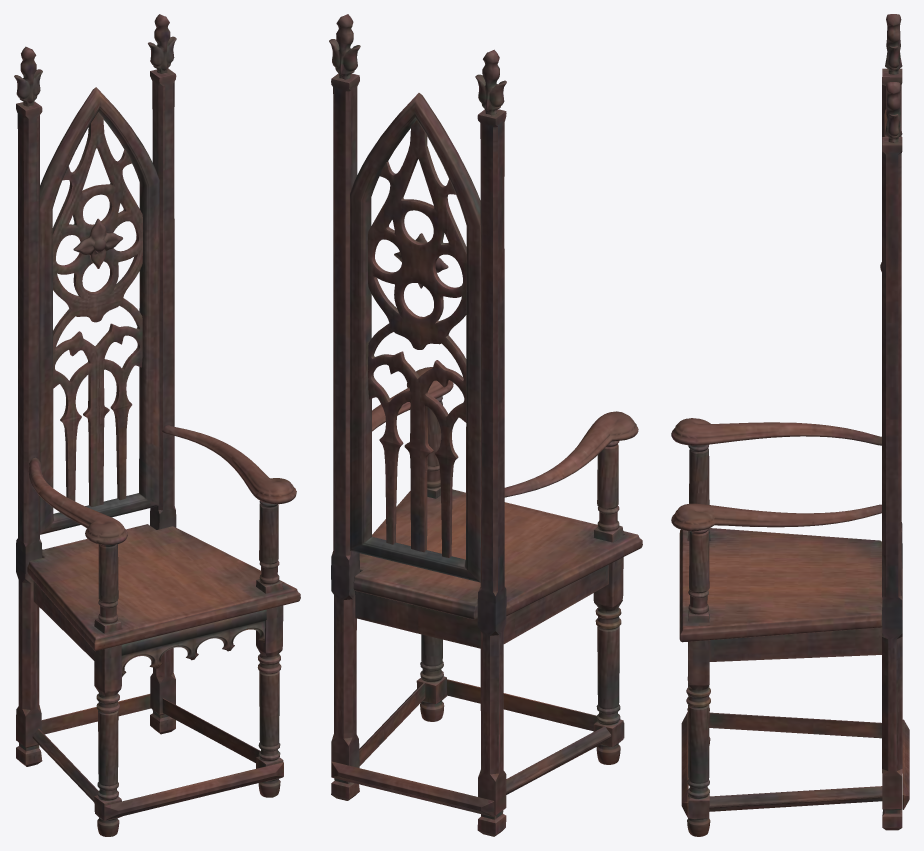
3 renders of one model, left to right at view 1: azimuth 30°, elevation 25°; view 2: azimuth 150°, elevation 25°; view 3: azimuth 270°, elevation 25°, orthographic. The views are drawn at different scales.
Parts seen in each view (by area): view 1: WoodenChair_01; view 2: WoodenChair_01; view 3: WoodenChair_01.
Part boxes in pixels (x1,y1,x2,y2): WoodenChair_01: (14,14,300,836); WoodenChair_01: (329,14,642,836); WoodenChair_01: (671,14,909,836).
Bounding box in the file's own units: 0.6882 × 2.27 × 0.6585.
1 material, 1 textured.
